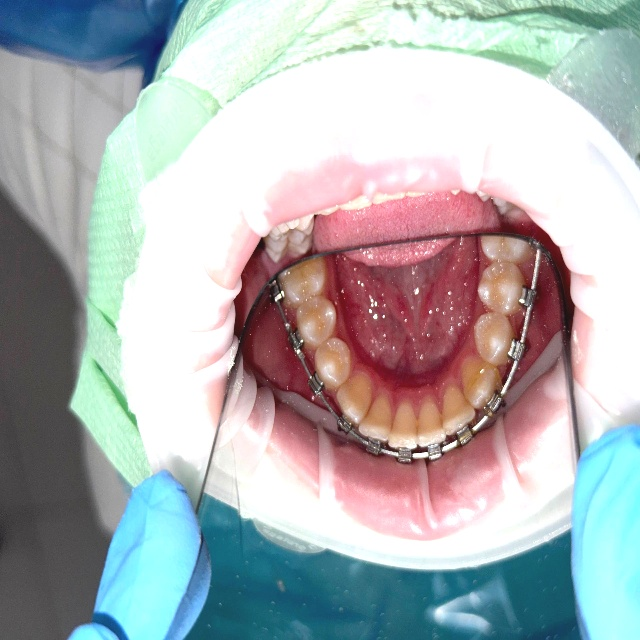plaque: (66, 471, 210, 639), (529, 424, 639, 639), (0, 0, 184, 86)
